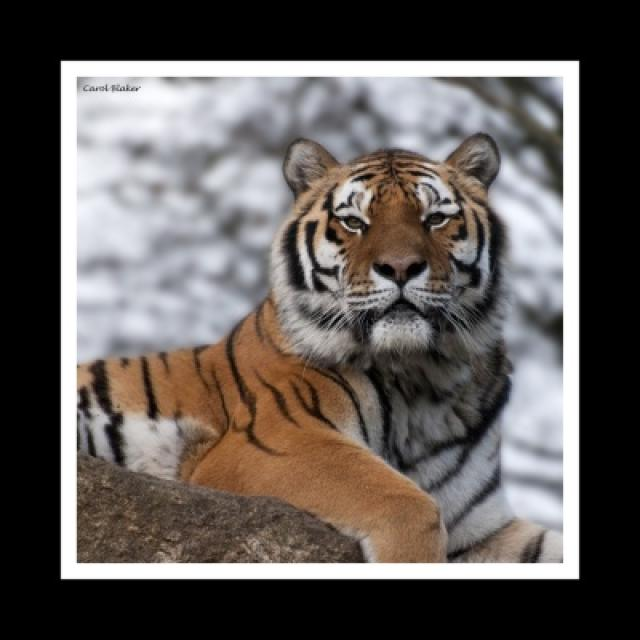Tiger: (78, 132, 559, 556)
